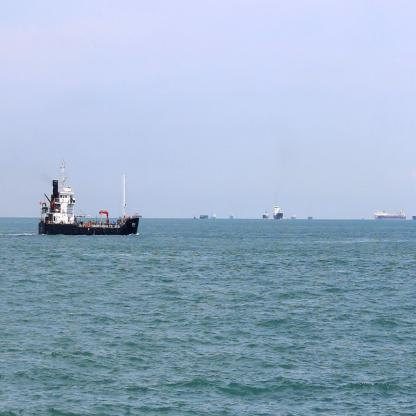Container Ship: (36, 155, 139, 238), (373, 207, 407, 222), (272, 205, 284, 222), (260, 208, 270, 223), (130, 212, 144, 221), (199, 212, 209, 222), (228, 212, 237, 223), (289, 215, 298, 223), (210, 213, 217, 222), (192, 212, 198, 222), (306, 215, 314, 222)
